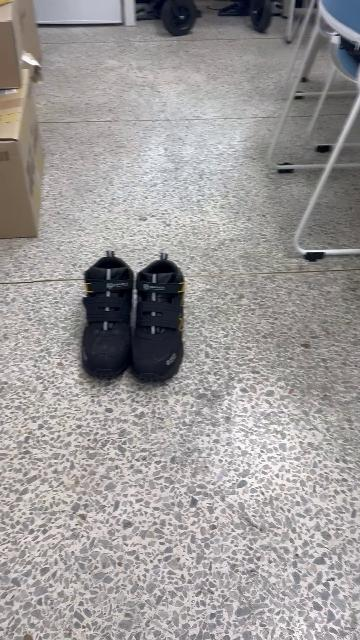shoe_worn: (134, 251, 188, 383), (82, 252, 136, 381)
